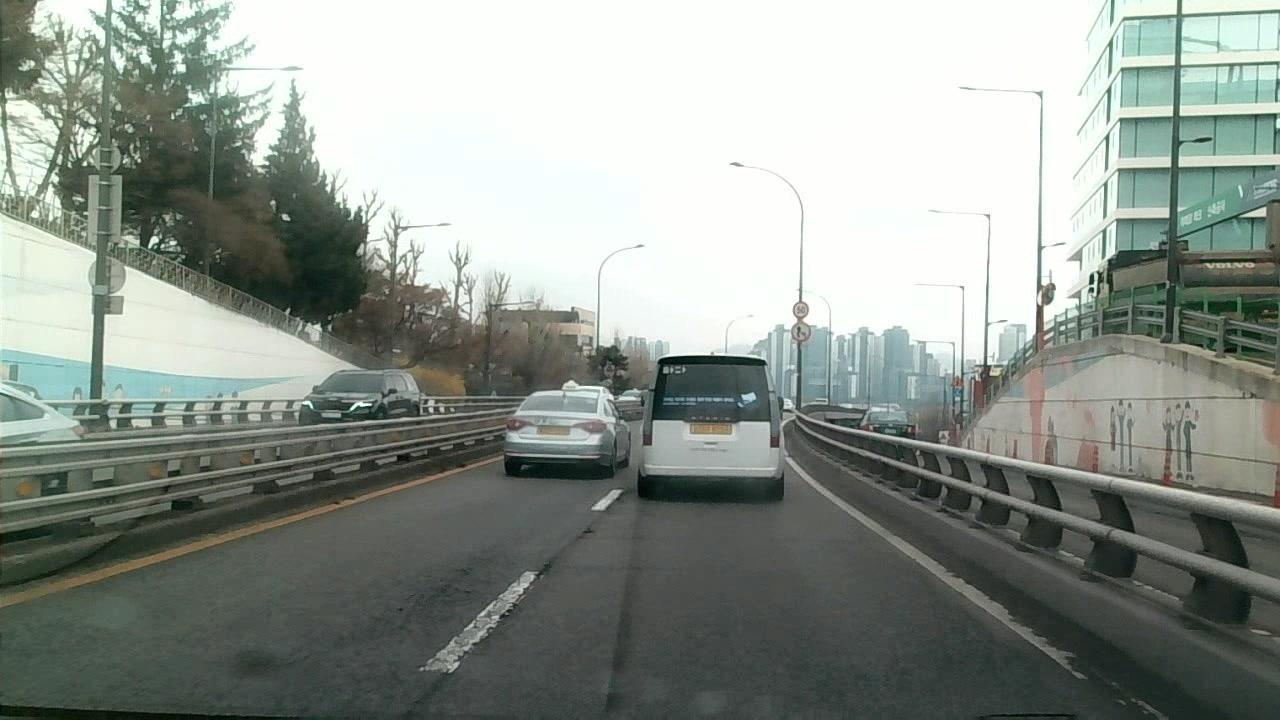banner: (385, 593, 522, 720), (524, 490, 623, 587)
